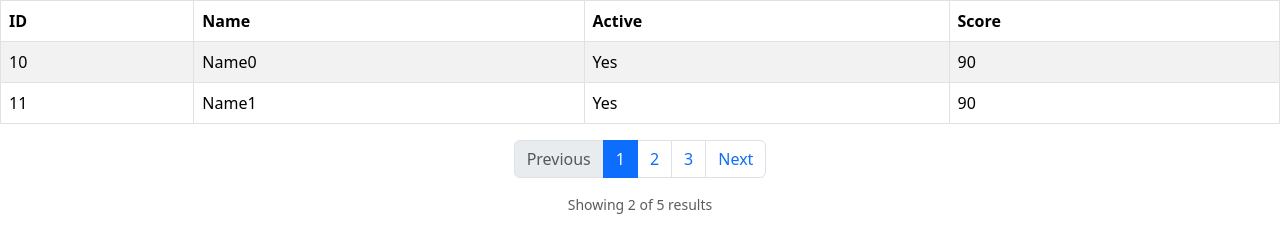
Test: SimpleTable › Pagination › should navigate to specific page
Click the button "2".
click(655, 159)  # box [637,140,672,178]
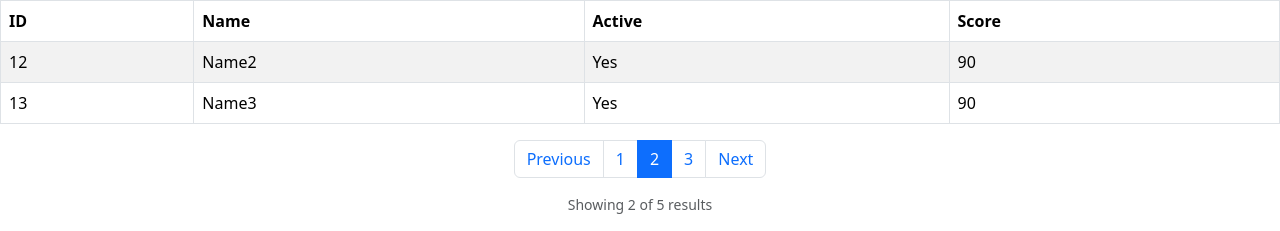
expect the text "Name2" is shown: met, box [194,42,584,82]
